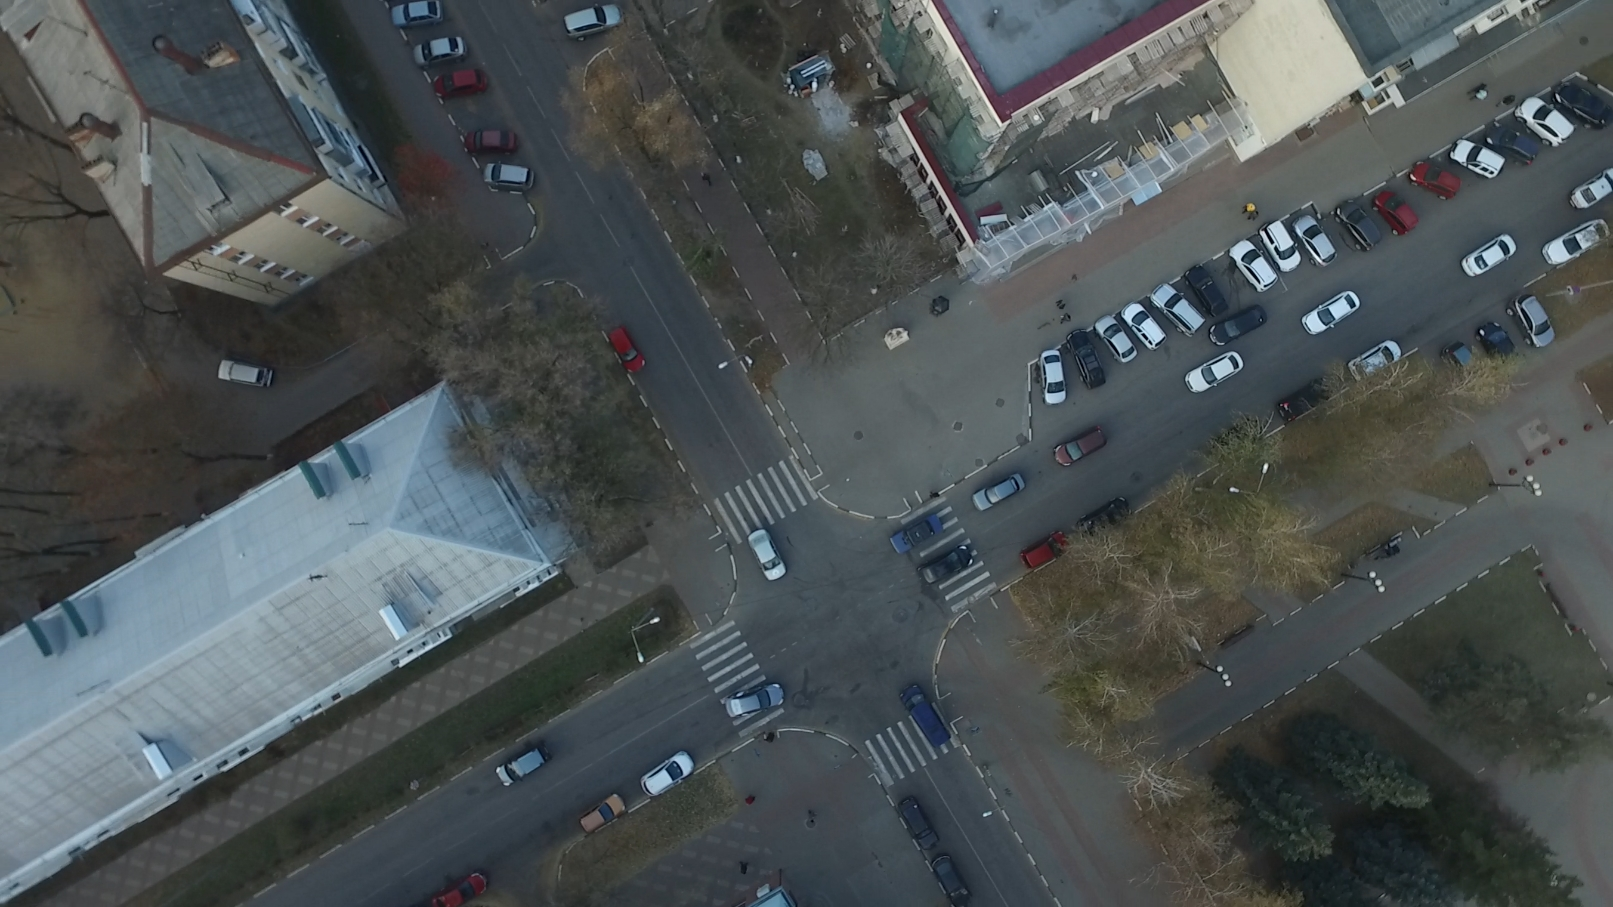car: (1544, 213, 1609, 269), (1516, 97, 1580, 154), (1552, 78, 1613, 136), (898, 684, 953, 748), (1276, 374, 1340, 424), (1152, 284, 1205, 340), (1458, 233, 1521, 279), (1507, 293, 1560, 348), (1227, 239, 1280, 291), (1293, 214, 1342, 269), (1183, 349, 1245, 392), (1208, 305, 1271, 347), (493, 742, 547, 791), (1448, 136, 1503, 184), (1301, 291, 1362, 334), (1334, 197, 1379, 254), (641, 751, 696, 797), (1348, 339, 1403, 385), (1066, 327, 1105, 391), (915, 544, 973, 586), (565, 4, 628, 42), (1072, 494, 1127, 537), (1120, 300, 1167, 350), (1484, 120, 1537, 164), (896, 795, 936, 853), (1260, 219, 1303, 272), (890, 515, 944, 557), (1186, 262, 1227, 318), (972, 473, 1031, 511), (929, 853, 972, 906), (747, 527, 785, 585), (428, 870, 489, 907), (1374, 193, 1419, 241), (1410, 159, 1461, 203), (578, 792, 628, 835), (725, 683, 789, 717), (1054, 426, 1108, 465), (1095, 317, 1137, 365), (1478, 317, 1517, 369), (482, 162, 536, 198), (1036, 348, 1071, 403), (215, 353, 271, 388), (1019, 529, 1067, 569), (1569, 168, 1613, 210), (433, 68, 485, 103), (462, 123, 521, 154), (609, 321, 647, 369), (1442, 337, 1478, 384), (414, 37, 466, 65), (392, 1, 443, 30)
